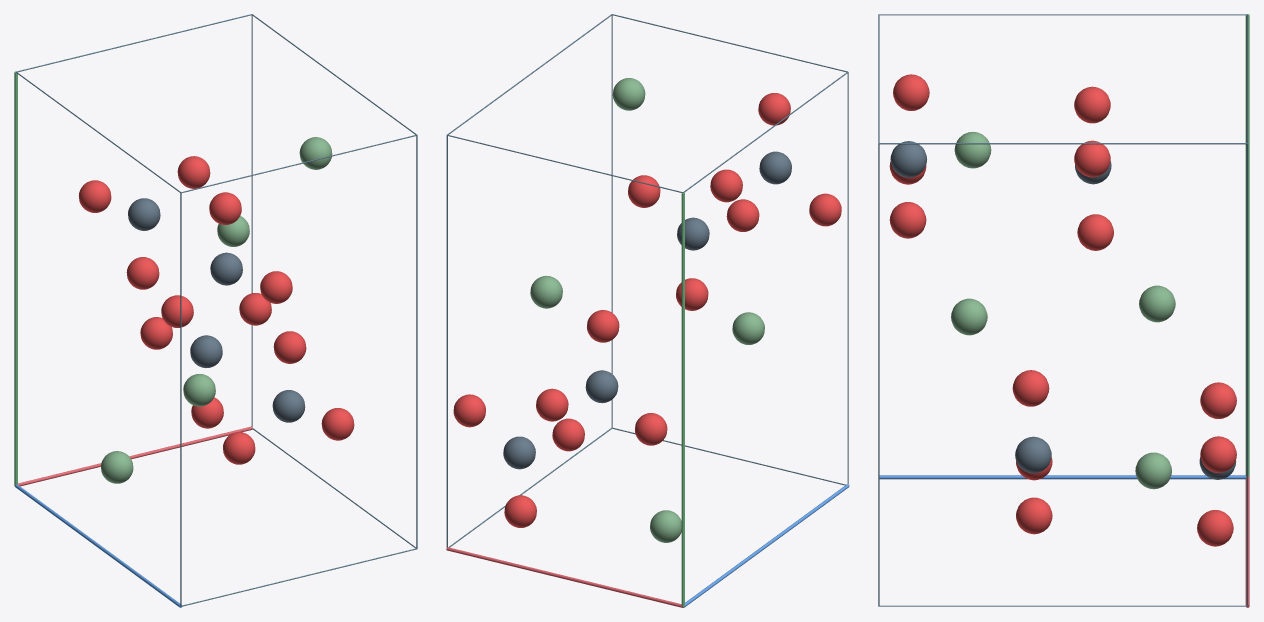
The model's file is chat-witherite.glb.
3 views of the same model, side by side, from view 1: azimuth 30°, elevation 25°; view 2: azimuth 150°, elevation 25°; view 3: azimuth 270°, elevation 25° (orthographic). The views are drawn at different scales.
Visible parts, largest first — view 1: Ô mạng và các trục a, b, c, O2 · O · 1 (×8), C · C · 1 (×4), O1 · O · 1 (×4), Ba · Ba · 1 (×4); view 2: Ô mạng và các trục a, b, c, O2 · O · 1 (×8), Ba · Ba · 1 (×4), C · C · 1 (×4), O1 · O · 1 (×4); view 3: Ô mạng và các trục a, b, c, O2 · O · 1 (×6), O1 · O · 1 (×4), Ba · Ba · 1 (×4), C · C · 1 (×2).
Boxes of the visible parts, bbox=[...] form: Ô mạng và các trục a, b, c: bbox=[14, 14, 417, 607]; O2 · O · 1 (×8): bbox=[79, 156, 354, 464]; C · C · 1 (×4): bbox=[128, 198, 305, 422]; O1 · O · 1 (×4): bbox=[126, 192, 306, 428]; Ba · Ba · 1 (×4): bbox=[101, 137, 332, 483]; Ô mạng và các trục a, b, c: bbox=[446, 14, 849, 607]; O2 · O · 1 (×8): bbox=[453, 169, 841, 451]; Ba · Ba · 1 (×4): bbox=[530, 78, 764, 542]; C · C · 1 (×4): bbox=[503, 151, 791, 469]; O1 · O · 1 (×4): bbox=[504, 93, 790, 527]; Ô mạng và các trục a, b, c: bbox=[878, 14, 1249, 607]; O2 · O · 1 (×6): bbox=[889, 86, 1236, 534]; O1 · O · 1 (×4): bbox=[893, 74, 1233, 546]; Ba · Ba · 1 (×4): bbox=[951, 132, 1175, 489]; C · C · 1 (×2): bbox=[890, 141, 1051, 473].
Bounding box in the file's own units: 5.52 × 8.94 × 6.48.
